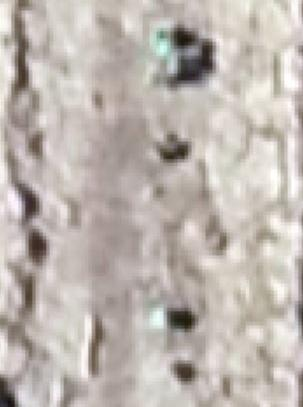cotton: (153, 32, 173, 54), (152, 306, 169, 328), (157, 62, 175, 75)
